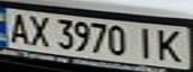0: (106, 22, 130, 56)
3: (51, 16, 75, 51)
7: (87, 20, 109, 54)
9: (69, 19, 90, 53)
A: (3, 10, 33, 45)
I: (130, 25, 160, 61)
K: (151, 26, 190, 64)
X: (24, 12, 54, 48)
